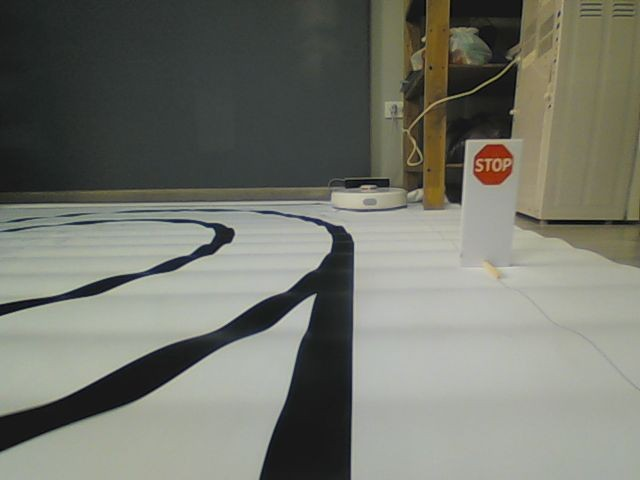Stop: (470, 143, 516, 186)
